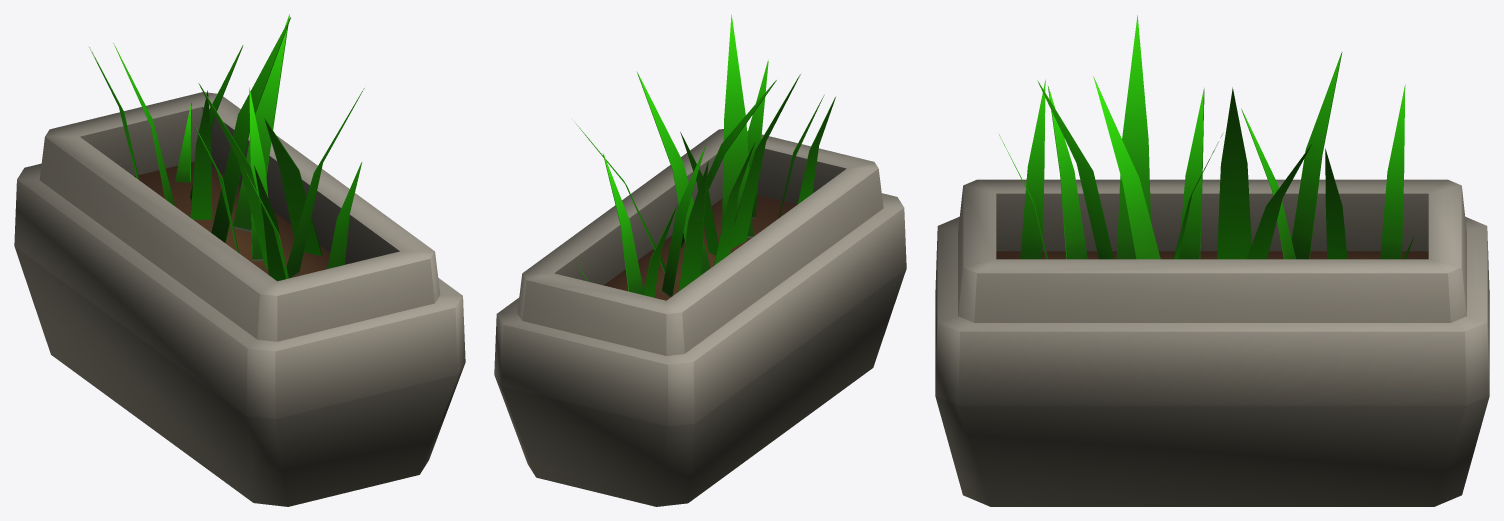
File: tc_plant_pot_1a.glb
The picture shows the model from 3 angles, left to right: view 1: azimuth 30°, elevation 25°; view 2: azimuth 150°, elevation 25°; view 3: azimuth 270°, elevation 25°; orthographic projection. The views are drawn at different scales.
Parts seen in each view (by area): view 1: Plant_Pot_1A; view 2: Plant_Pot_1A; view 3: Plant_Pot_1A.
Part boxes in pixels (x1,y1,x2,y2): Plant_Pot_1A: (14,14,465,506); Plant_Pot_1A: (494,14,906,506); Plant_Pot_1A: (935,15,1489,506).
Bounding box in the file's own units: 1 × 1.61 × 2.
1 material, 1 textured.
